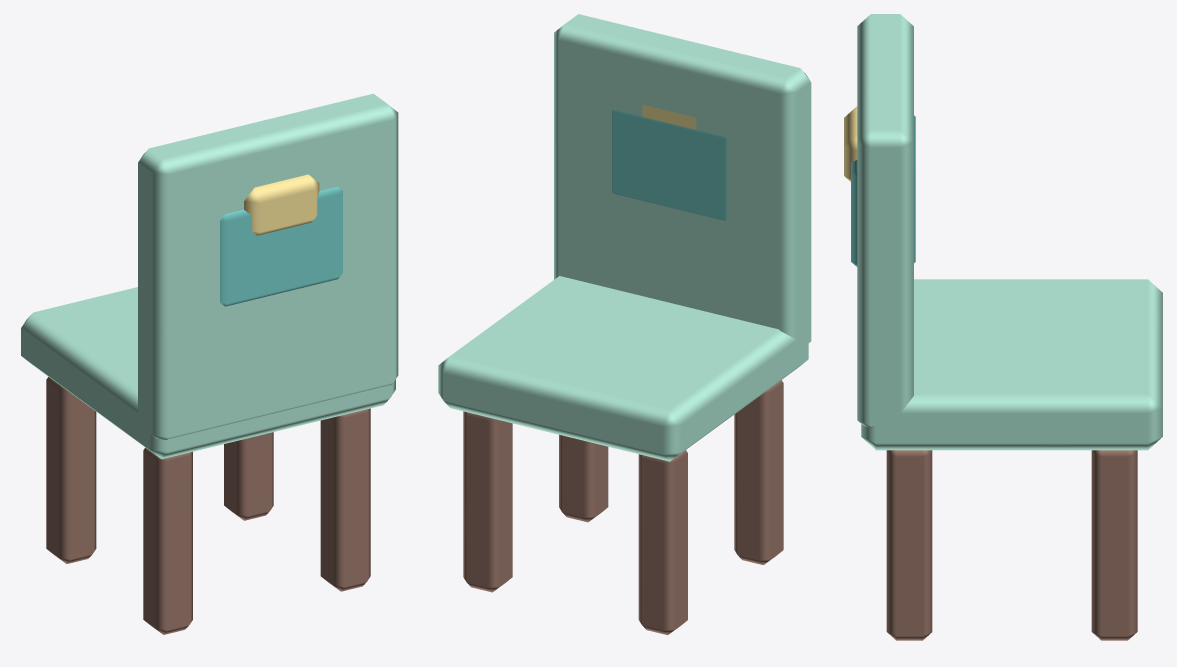
File: dining_chair_mint.glb
3 views of the same model, side by side, from view 1: azimuth 30°, elevation 25°; view 2: azimuth 150°, elevation 25°; view 3: azimuth 270°, elevation 25° (orthographic). The views are drawn at different scales.
Visible parts, largest first — view 1: DiningChairMint_Back, DiningChairMint_Seat, DiningChairMint_BackInset, DiningChairMint_Leg_BL, DiningChairMint_Leg_BR, DiningChairMint_Leg_FL, DiningChairMint_Leg_FR, DiningChairMint_BackBadge; view 2: DiningChairMint_Back, DiningChairMint_Seat, DiningChairMint_BackInset, DiningChairMint_Leg_FL, DiningChairMint_Leg_FR, DiningChairMint_Leg_BL, DiningChairMint_Leg_BR, DiningChairMint_BackBadge; view 3: DiningChairMint_Seat, DiningChairMint_Back, DiningChairMint_Leg_BR, DiningChairMint_Leg_FR, DiningChairMint_BackInset, DiningChairMint_BackBadge.
Boxes of the visible parts, <box> form: DiningChairMint_Back: <box>138,93,398,439</box>; DiningChairMint_Seat: <box>21,287,395,459</box>; DiningChairMint_BackInset: <box>220,186,342,306</box>; DiningChairMint_Leg_BL: <box>143,447,192,634</box>; DiningChairMint_Leg_BR: <box>320,408,370,591</box>; DiningChairMint_Leg_FL: <box>46,377,96,563</box>; DiningChairMint_Leg_FR: <box>224,432,273,520</box>; DiningChairMint_BackBadge: <box>244,174,319,235</box>; DiningChairMint_Back: <box>554,14,811,351</box>; DiningChairMint_Seat: <box>438,276,808,461</box>; DiningChairMint_BackInset: <box>612,109,726,220</box>; DiningChairMint_Leg_FL: <box>638,450,687,635</box>; DiningChairMint_Leg_FR: <box>463,411,512,592</box>; DiningChairMint_Leg_BL: <box>734,380,783,565</box>; DiningChairMint_Leg_BR: <box>559,434,608,522</box>; DiningChairMint_BackBadge: <box>642,105,696,129</box>; DiningChairMint_Seat: <box>861,279,1162,450</box>; DiningChairMint_Back: <box>857,14,913,428</box>; DiningChairMint_Leg_BR: <box>886,450,932,640</box>; DiningChairMint_Leg_FR: <box>1091,450,1137,640</box>; DiningChairMint_BackInset: <box>851,115,915,266</box>; DiningChairMint_BackBadge: <box>844,106,857,181</box>.
Bounding box in the file's own units: 0.56 × 1.06 × 0.592.
